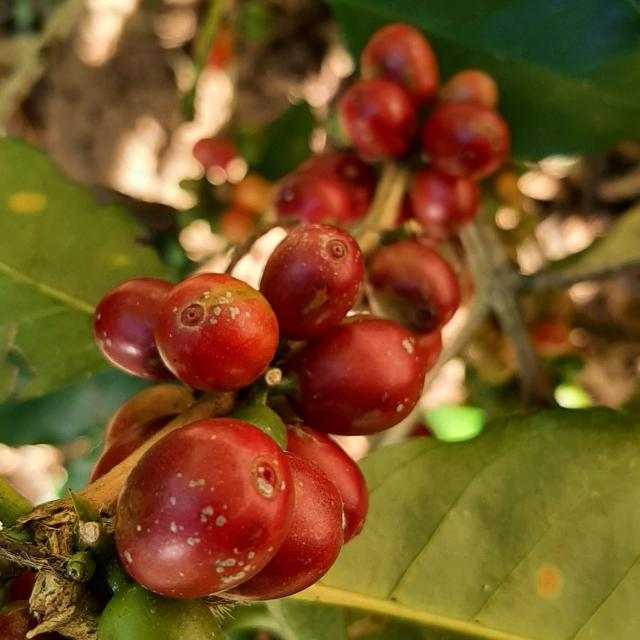Ripe: (114, 418, 294, 600), (232, 453, 344, 601), (287, 316, 425, 436), (154, 274, 278, 392), (259, 224, 365, 341), (287, 426, 369, 543), (369, 240, 461, 334), (92, 278, 174, 382)
